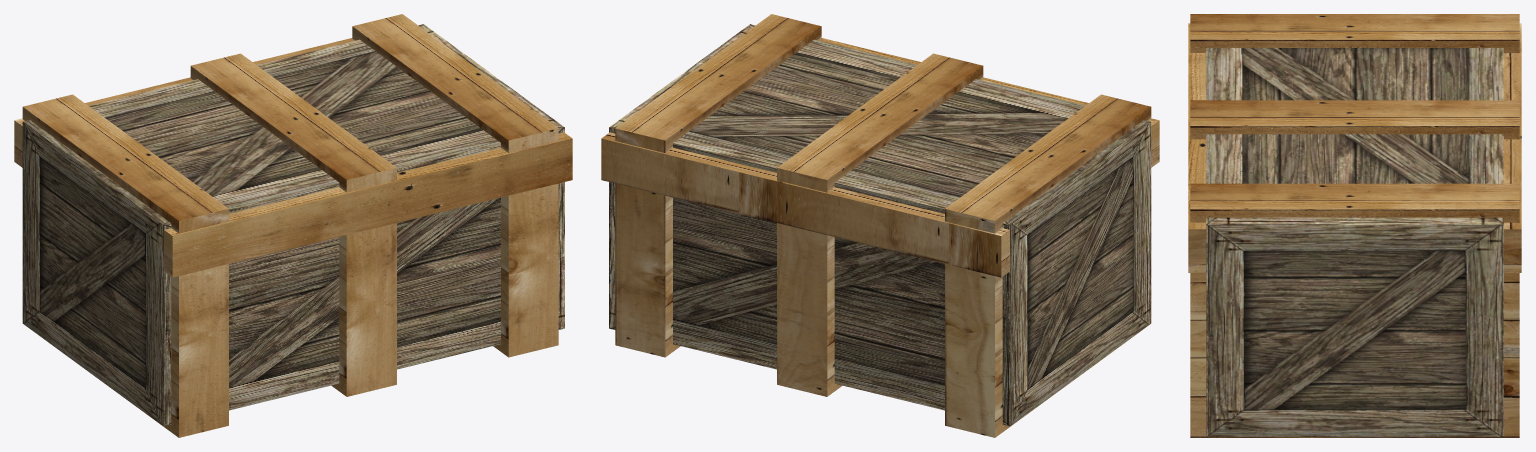
File: cargo1.fbx
3 views of the same model, side by side, from view 1: azimuth 30°, elevation 25°; view 2: azimuth 150°, elevation 25°; view 3: azimuth 270°, elevation 25° (orthographic). The views are drawn at different scales.
Visible parts, largest first — view 1: pCube1, pCube5, pCube3, pCube4, pCube2; view 2: pCube1, pCube5, pCube3, pCube4, pCube2; view 3: pCube1, pCube4, pCube2, pCube3, pCube5.
Part boxes in pixels (<box>): pCube1: <box>22,24,564,426</box>; pCube5: <box>14,38,572,277</box>; pCube3: <box>22,94,228,437</box>; pCube4: <box>352,14,558,357</box>; pCube2: <box>190,53,396,396</box>; pCube1: <box>609,24,1151,426</box>; pCube5: <box>601,38,1159,277</box>; pCube3: <box>945,94,1151,437</box>; pCube4: <box>615,14,821,357</box>; pCube2: <box>777,53,983,396</box>; pCube1: <box>1206,48,1503,436</box>; pCube4: <box>1190,183,1519,437</box>; pCube2: <box>1190,100,1519,139</box>; pCube3: <box>1190,14,1519,52</box>; pCube5: <box>1188,23,1521,272</box>.
Bounding box in the file's own units: 5.54 × 2.86 × 3.79.
Materials: 2 (2 with a texture image).
